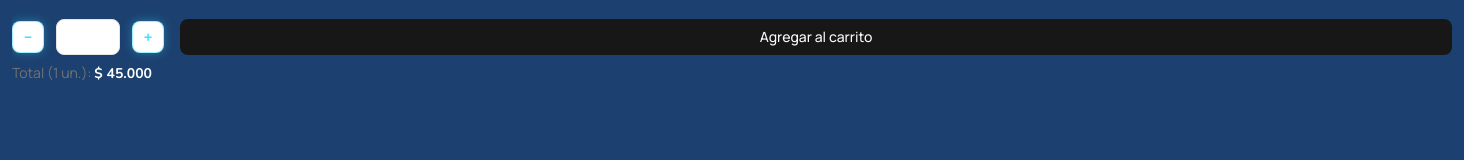
Test case: AddToCart › shows a confirmation on the button after adding
The width and height of the screenshot is (1464, 160).
Click the button "Agregar al carrito".
click(816, 37)  # box top-left (180, 19), bottom-right (1452, 55)
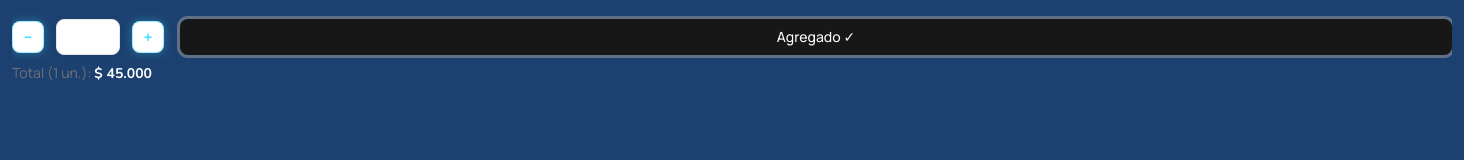
Check: the button "Agregado ✓" is shown, box top-left (180, 19), bottom-right (1452, 55)
